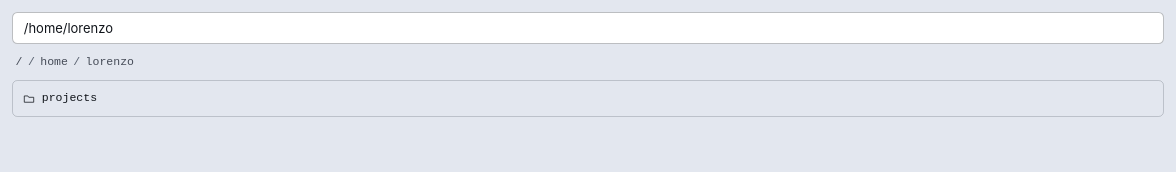
Test: DirectoryPicker (SPEC §7.25 directory picker; issue #474) › clicking a directory entry navigates into it, fetching lazily (not eagerly walking the tree)
The width and height of the screenshot is (1176, 172).
Expected: the text "projects" is shown, [42,88,97,109]
Click the button with test id "directory-picker-entry".
click(69, 97)  # box [17,84,1159,112]
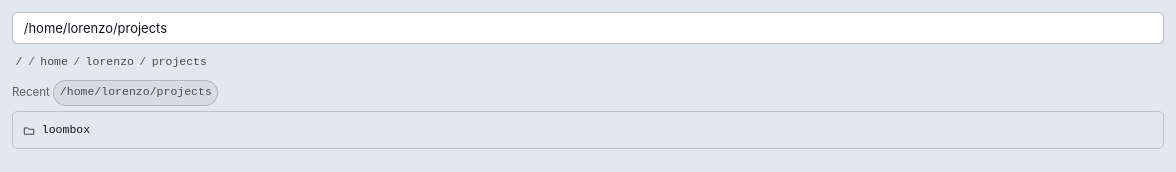
Expected: the text "loombox" is shown, [42,120,90,141]
